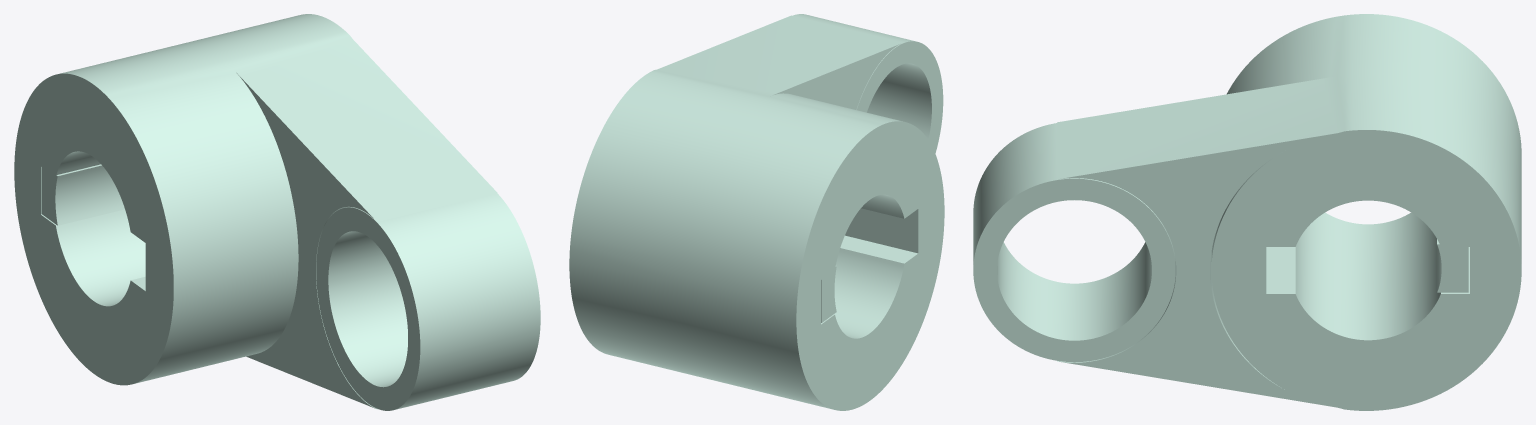
3 views of the same model, side by side, from view 1: azimuth 30°, elevation 25°; view 2: azimuth 150°, elevation 25°; view 3: azimuth 270°, elevation 25° (orthographic). The views are drawn at different scales.
Visible parts, largest first — view 1: Renderer Node; view 2: Renderer Node; view 3: Renderer Node.
Boxes of the visible parts, x1,y1,x2,y2 form: Renderer Node: (14, 14, 540, 410); Renderer Node: (569, 14, 944, 410); Renderer Node: (973, 14, 1521, 410).
Bounding box in the file's own units: 0.5234 × 0.5921 × 1.05.
